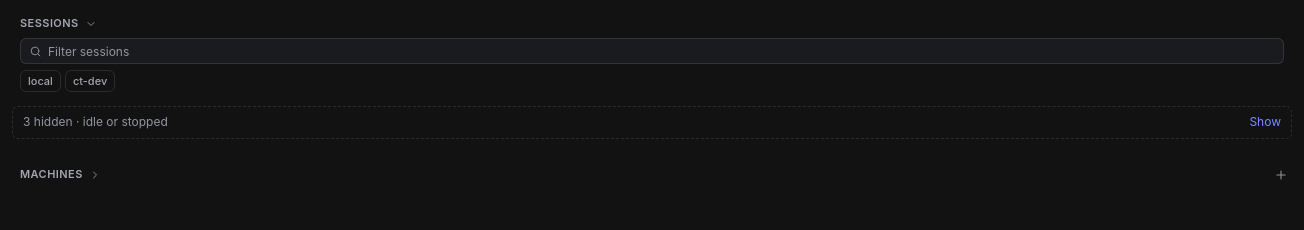
Sessions filter › says what it filtered by when nothing matches
This screenshot has width=1304, height=230.
Click the button "ct-dev". click: (90, 81)
box: [65,70,115,92]
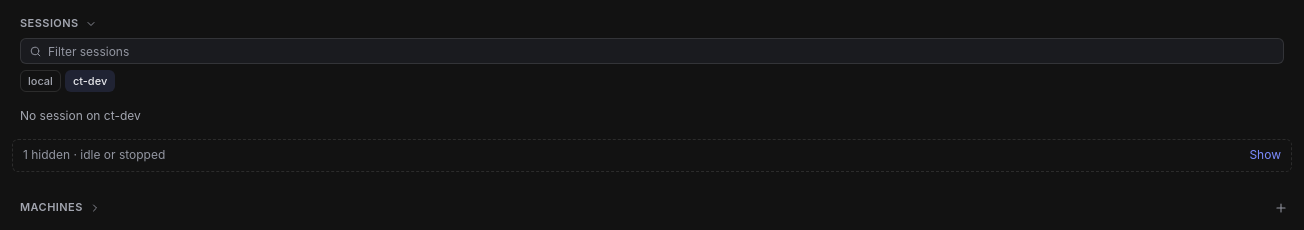
Type "vault" into the search field labelled "Filter sessions". click: (666, 51)
box: [48,39,1283,63]
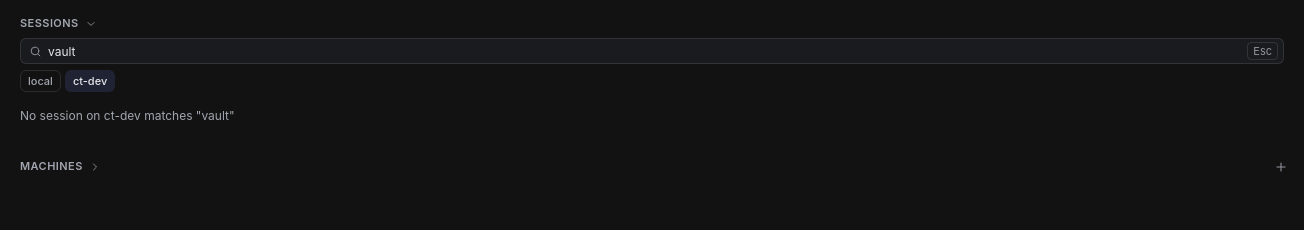
Check: the text "No session on ct-dev matches \"vault\"" is shown, box [20,108,235,123]
